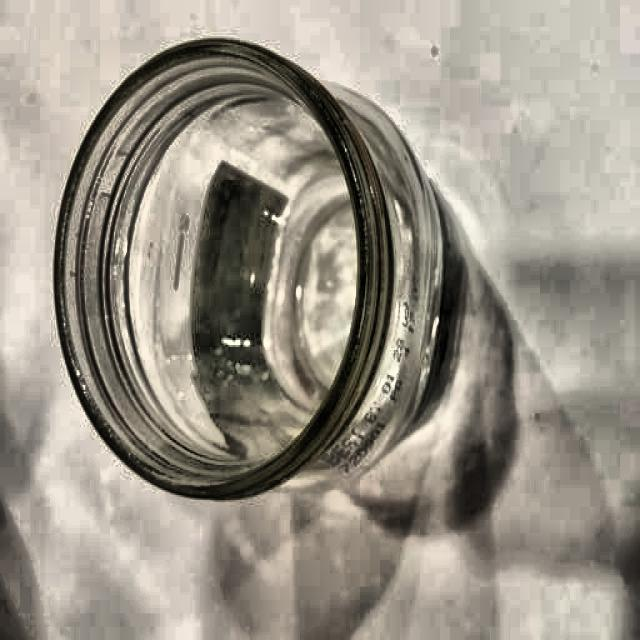glass: (53, 35, 460, 495)
